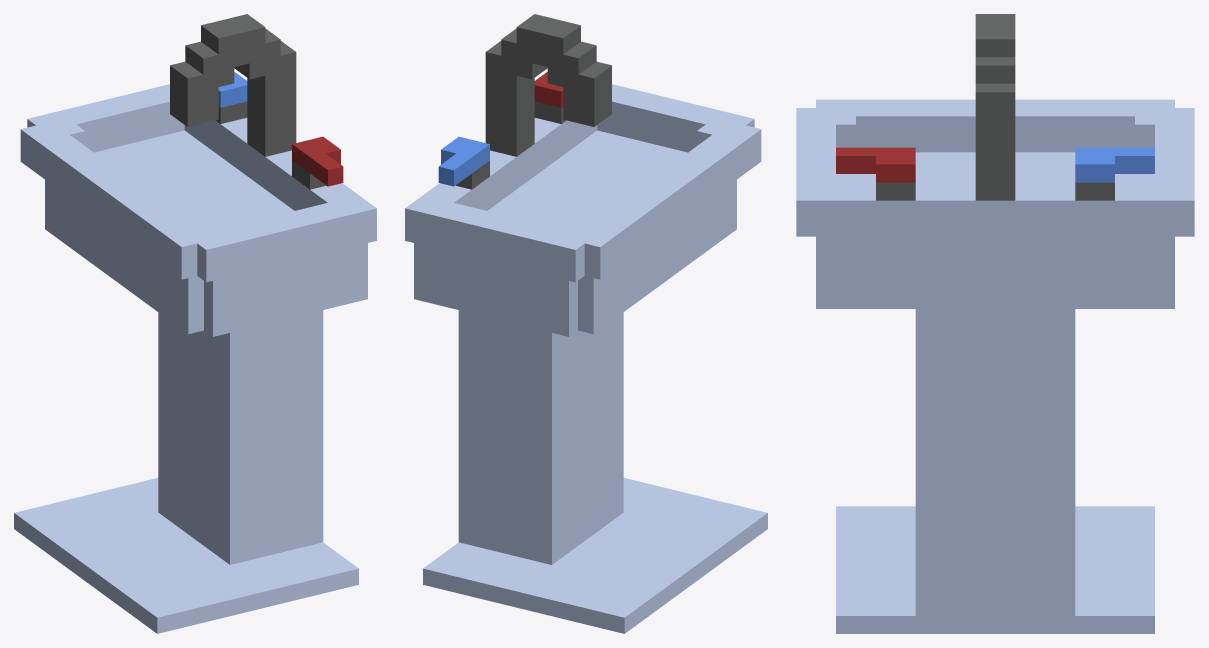
Rendered from sink.obj.
3 renders of one model, left to right at view 1: azimuth 30°, elevation 25°; view 2: azimuth 150°, elevation 25°; view 3: azimuth 270°, elevation 25°, orthographic. The views are drawn at different scales.
Parts seen in each view (by area): view 1: sink; view 2: sink; view 3: sink.
Part boxes in pixels (<box>): sink: <box>14,14,376,633</box>; sink: <box>405,14,767,633</box>; sink: <box>796,14,1194,633</box>.
Bounding box in the file's own units: 13 × 32 × 20.
Materials: 1 (1 with a texture image).
